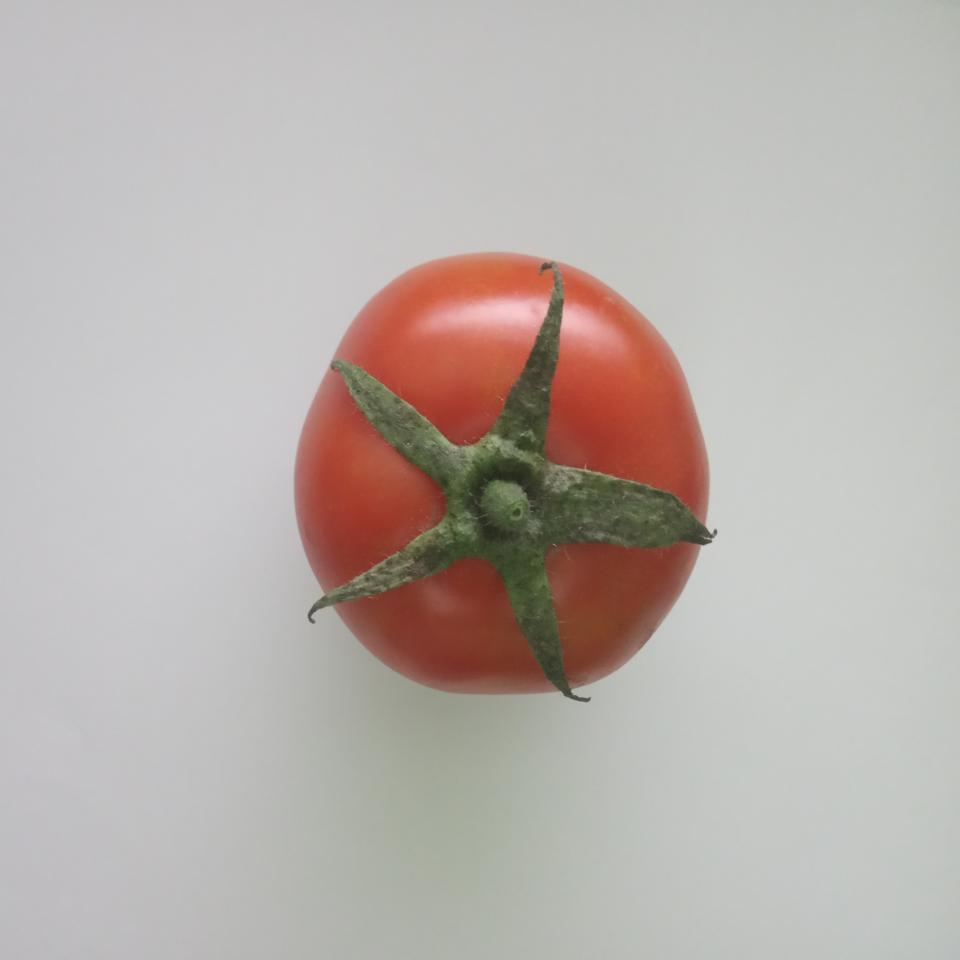Healthy: (288, 243, 721, 708)
